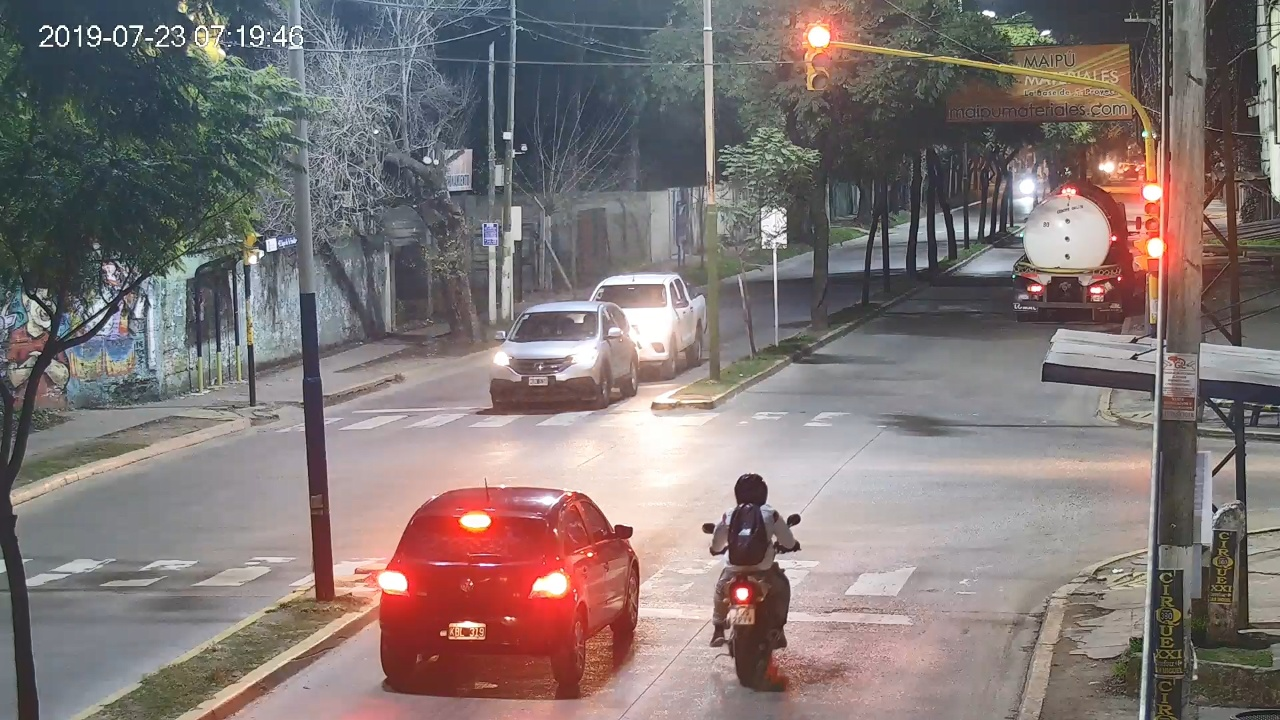car: (380, 486, 641, 684)
front car: (490, 301, 638, 408)
motorcycle: (703, 509, 801, 686)
traffic light: (805, 23, 831, 90), (1144, 183, 1160, 230)
